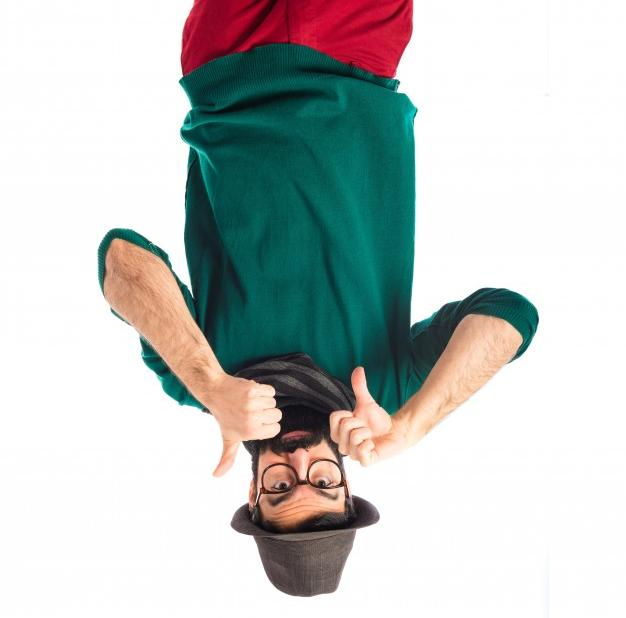thumbsdown: (213, 383, 282, 478)
